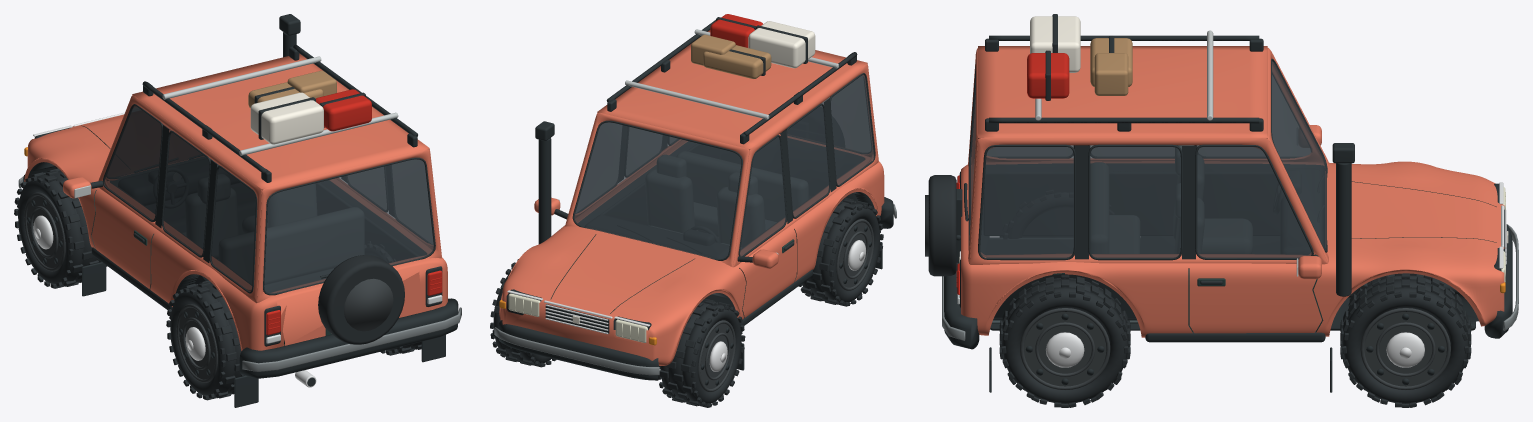
File: fell.fbx
3 renders of one model, left to right at view 1: azimuth 30°, elevation 25°; view 2: azimuth 150°, elevation 25°; view 3: azimuth 270°, elevation 25°, orthographic. The views are drawn at different scales.
Visible parts, largest first — view 1: Body, Wheel_FL_Mesh, Wheel_RL_Mesh, Wheel_RR_Mesh; view 2: Body, Wheel_FL_Mesh, Wheel_RL_Mesh, Wheel_FR_Mesh; view 3: Body, Wheel_FR_Mesh, Wheel_RR_Mesh, Wheel_RL_Mesh.
Part boxes in pixels (<box>): Body: <box>18,14,461,407</box>; Wheel_FL_Mesh: <box>14,168,107,288</box>; Wheel_RL_Mesh: <box>166,280,244,400</box>; Wheel_RR_Mesh: <box>365,241,421,355</box>; Body: <box>494,14,896,380</box>; Wheel_FL_Mesh: <box>658,298,745,407</box>; Wheel_RL_Mesh: <box>798,197,883,306</box>; Wheel_FR_Mesh: <box>490,259,556,367</box>; Body: <box>925,14,1518,392</box>; Wheel_FR_Mesh: <box>1340,273,1471,407</box>; Wheel_RR_Mesh: <box>999,275,1130,407</box>; Wheel_RL_Mesh: <box>1000,190,1114,238</box>.
Size of the model in its own units: 240 by 241 by 422.
